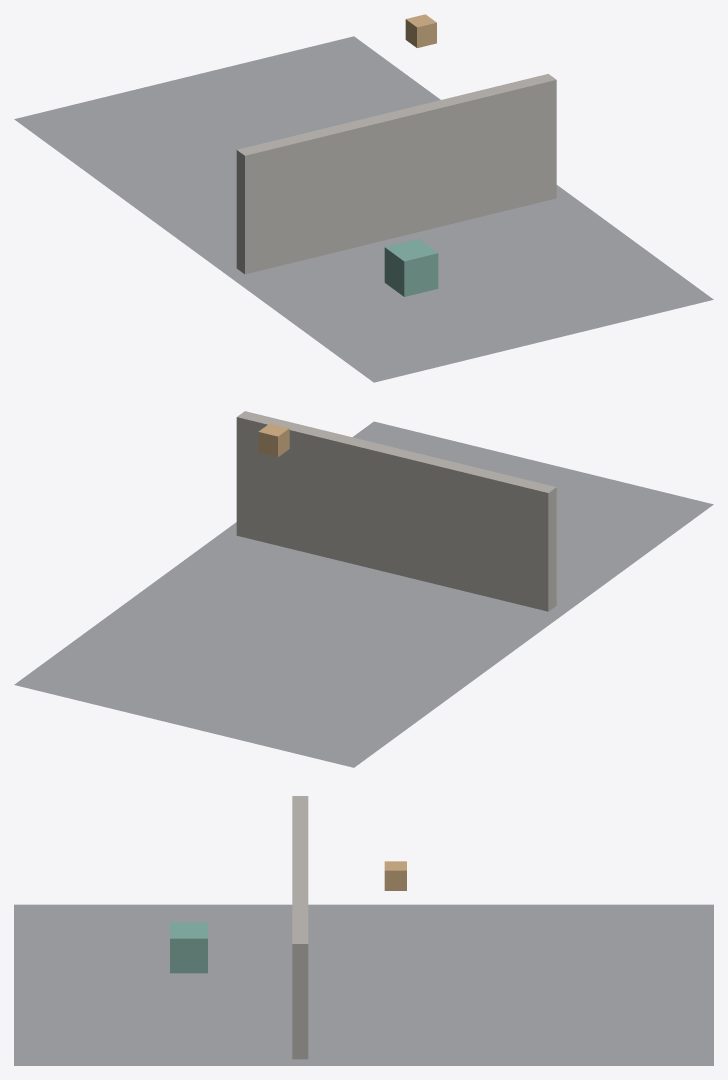
Rendered from audio.gltf.
3 renders of one model, top to bottom at view 1: azimuth 30°, elevation 25°; view 2: azimuth 150°, elevation 25°; view 3: azimuth 270°, elevation 25°, orthographic. The views are drawn at different scales.
Visible parts, largest first — view 1: ground, wall, generator, crate_rattle; view 2: ground, wall, crate_rattle; view 3: ground, wall, generator, crate_rattle.
Part boxes in pixels (box(x1,y1,x2,y2)): ground: box(14, 36, 713, 382); wall: box(236, 74, 556, 274); generator: box(384, 239, 438, 296); crate_rattle: box(405, 14, 436, 47); ground: box(14, 421, 713, 767); wall: box(236, 411, 556, 611); crate_rattle: box(258, 423, 289, 457); ground: box(14, 904, 713, 1065); wall: box(292, 796, 308, 1059); generator: box(170, 922, 207, 973); crate_rattle: box(384, 861, 406, 890).
Size of the model in its own units: 12 by 5.35 by 22.
